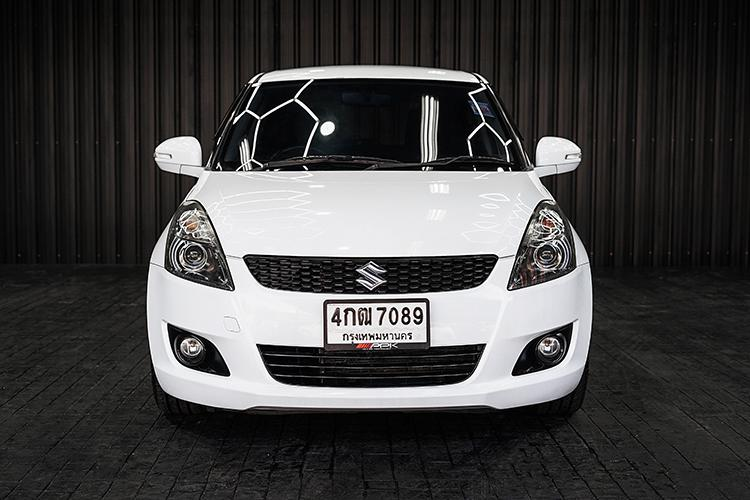license-plate: (321, 298, 431, 352)
